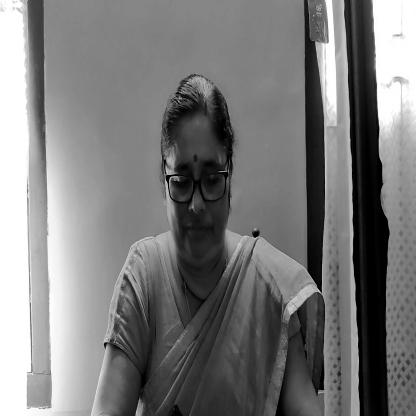Normal: (156, 71, 238, 267)
